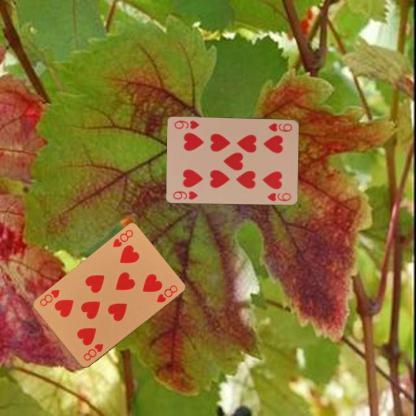8h: (80, 340, 104, 362), (110, 227, 134, 249)
9h: (170, 188, 199, 200), (266, 121, 294, 133)
